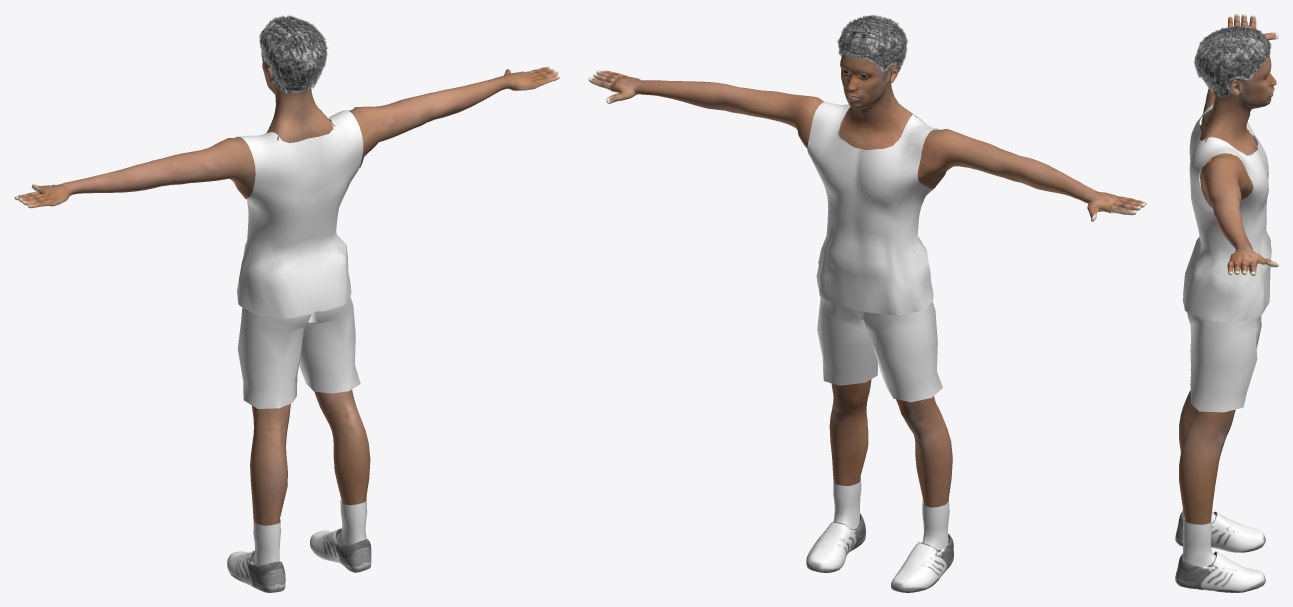
Rendered from mensch_c.glb.
3 renders of one model, left to right at view 1: azimuth 30°, elevation 25°; view 2: azimuth 150°, elevation 25°; view 3: azimuth 270°, elevation 25°, orthographic. The views are drawn at different scales.
Visible parts, largest first — view 1: mensch; view 2: mensch; view 3: mensch.
Part boxes in pixels (<box>): mensch: <box>14,15,559,592</box>; mensch: <box>588,15,1146,592</box>; mensch: <box>1175,14,1278,592</box>.
Size of the model in its own units: 1.84 by 1.79 by 0.3113.
1 material, 1 textured.
